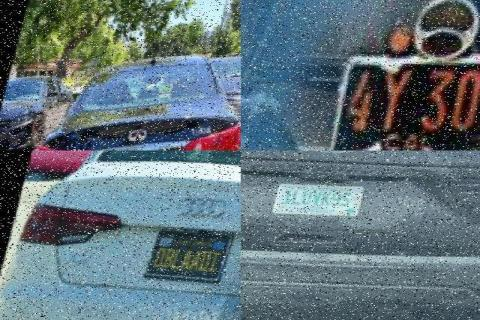LicensePlate: (332, 50, 480, 150), (147, 230, 234, 288), (270, 185, 364, 220)
